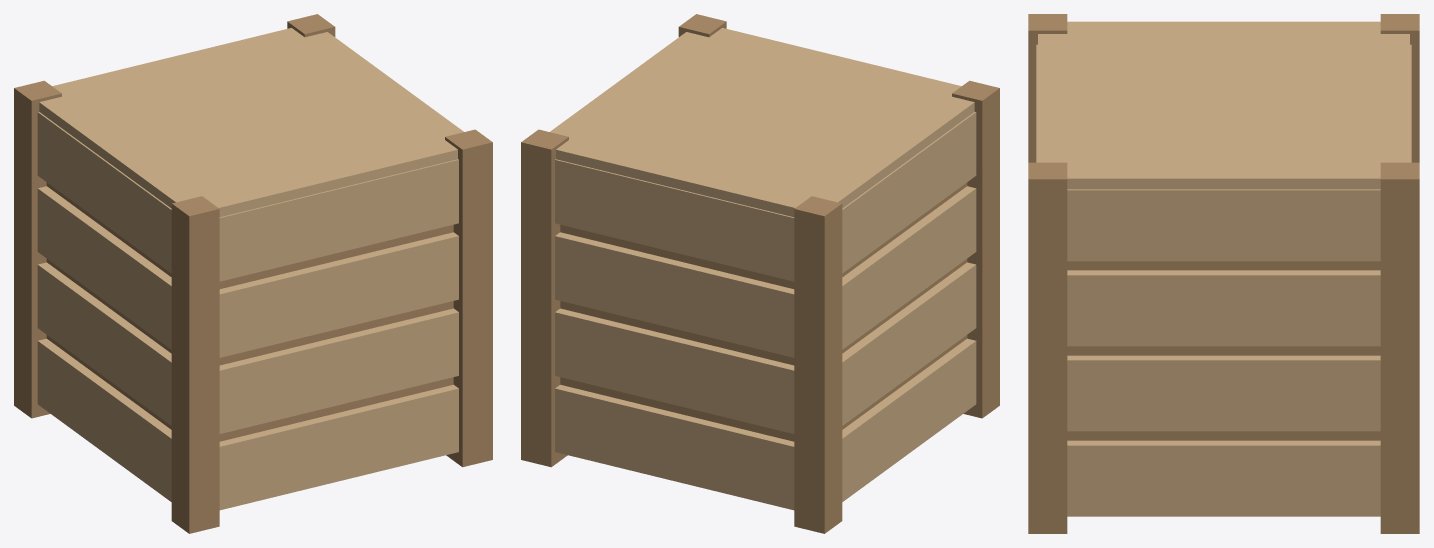
Rendered from world_crate.glb.
3 renders of one model, left to right at view 1: azimuth 30°, elevation 25°; view 2: azimuth 150°, elevation 25°; view 3: azimuth 270°, elevation 25°, orthographic. The views are drawn at different scales.
Parts seen in each view (by area): view 1: world_crate; view 2: world_crate; view 3: world_crate.
Part boxes in pixels (x1=…): world_crate: x1=14, y1=14, x2=492, y2=533; world_crate: x1=521, y1=14, x2=999, y2=533; world_crate: x1=1028, y1=14, x2=1419, y2=533.
Size of the model in its own units: 1 by 1 by 1.
